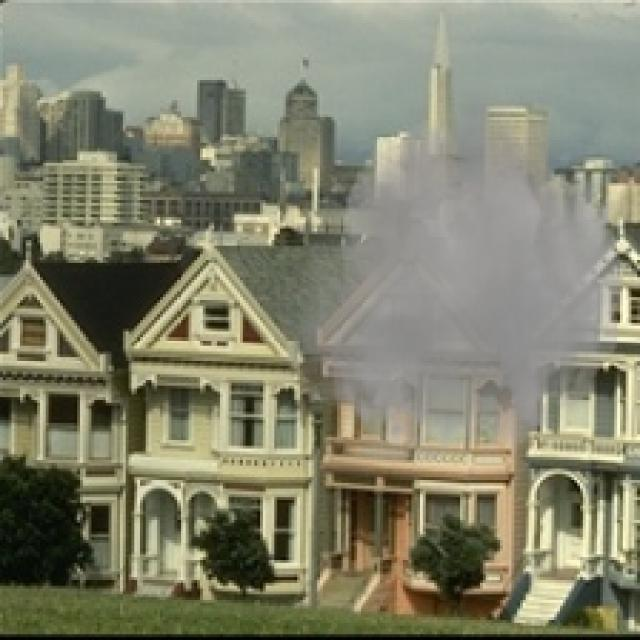Smoke: (274, 71, 632, 483)
